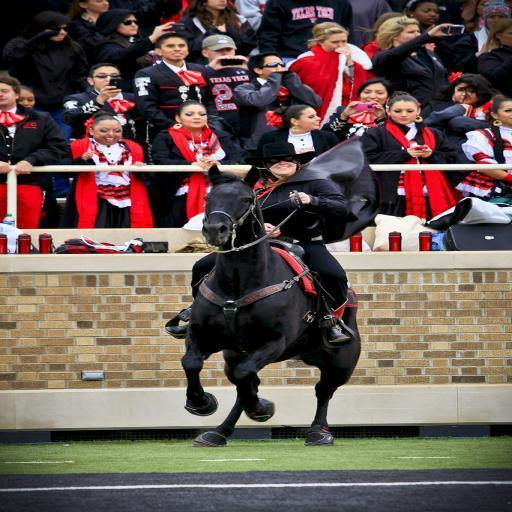horse: (174, 162, 360, 448)
